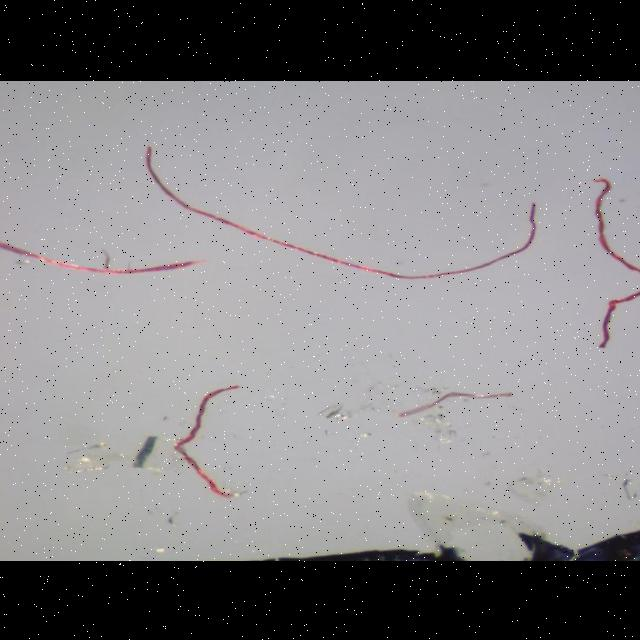Fibre: (138, 142, 548, 286), (570, 174, 640, 352), (164, 382, 252, 506), (0, 231, 206, 278), (384, 378, 526, 428)
